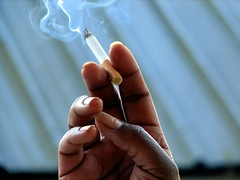cigarette: (81, 25, 124, 87)
